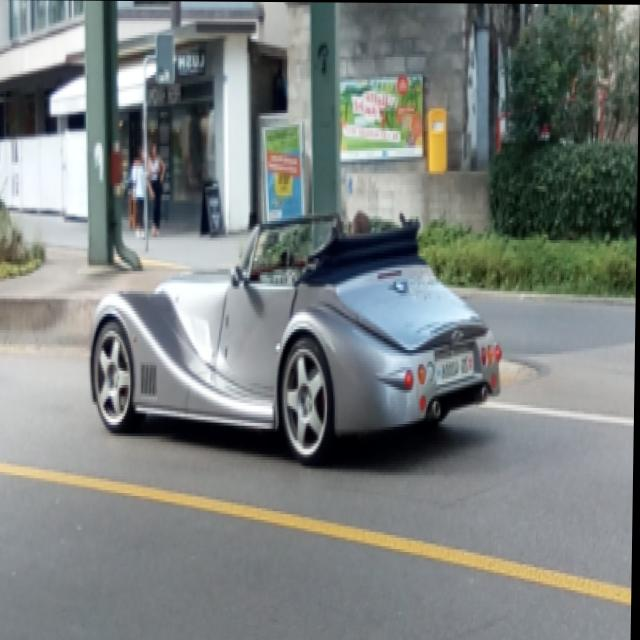licence: (437, 347, 474, 384)
